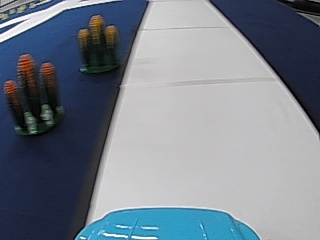corn: (8, 58, 64, 137), (75, 11, 122, 72)
